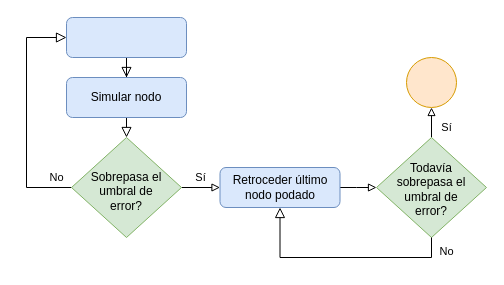
Image size: 504x285. Some labels were removed from this diagram. The shapes that lost their labels are listed below. From the top down, each one's centre as x and y in pixels, then its label:
pixel 126 37: Podar nodo
pixel 431 82: Fin
